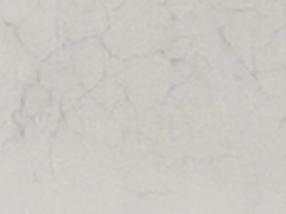fissura: (6, 5, 275, 148)
